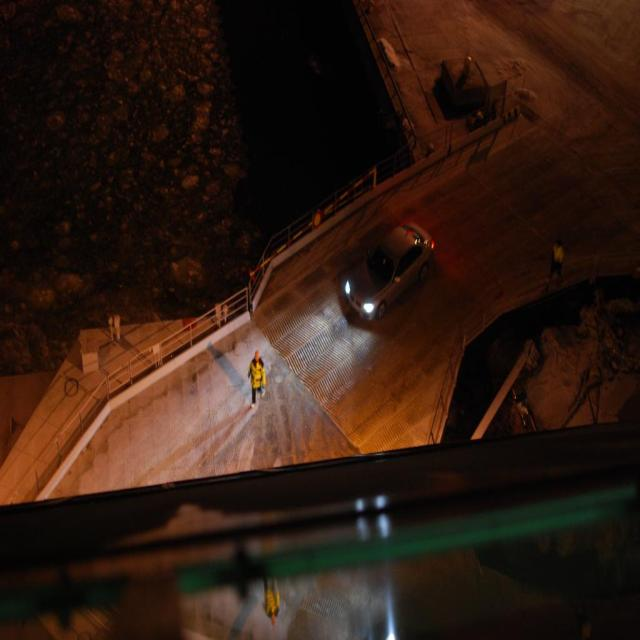car: (342, 214, 435, 319)
